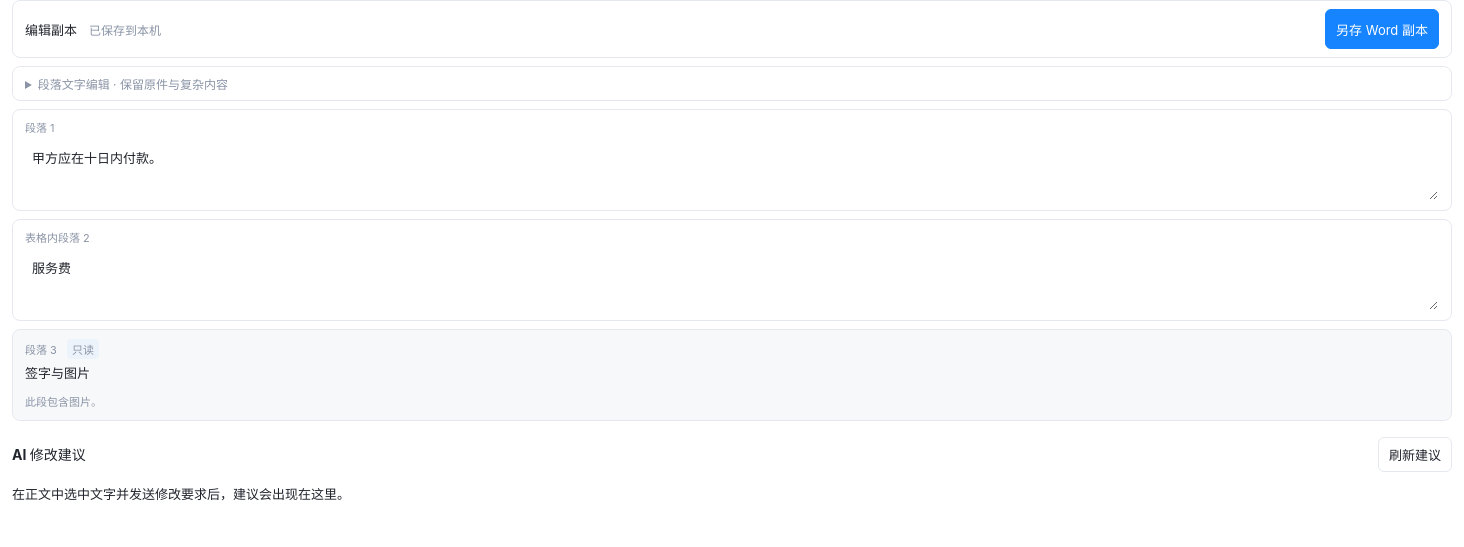
contract editor user workflow › exports the saved revision and reports cancelled save without losing the draft
Expected: the text box labelled "段落 1" is shown, x1=25 y1=139 x2=1439 y2=201
Click the button "另存 Word 副本" at (1382, 29), box x1=1325 y1=9 x2=1439 y2=49
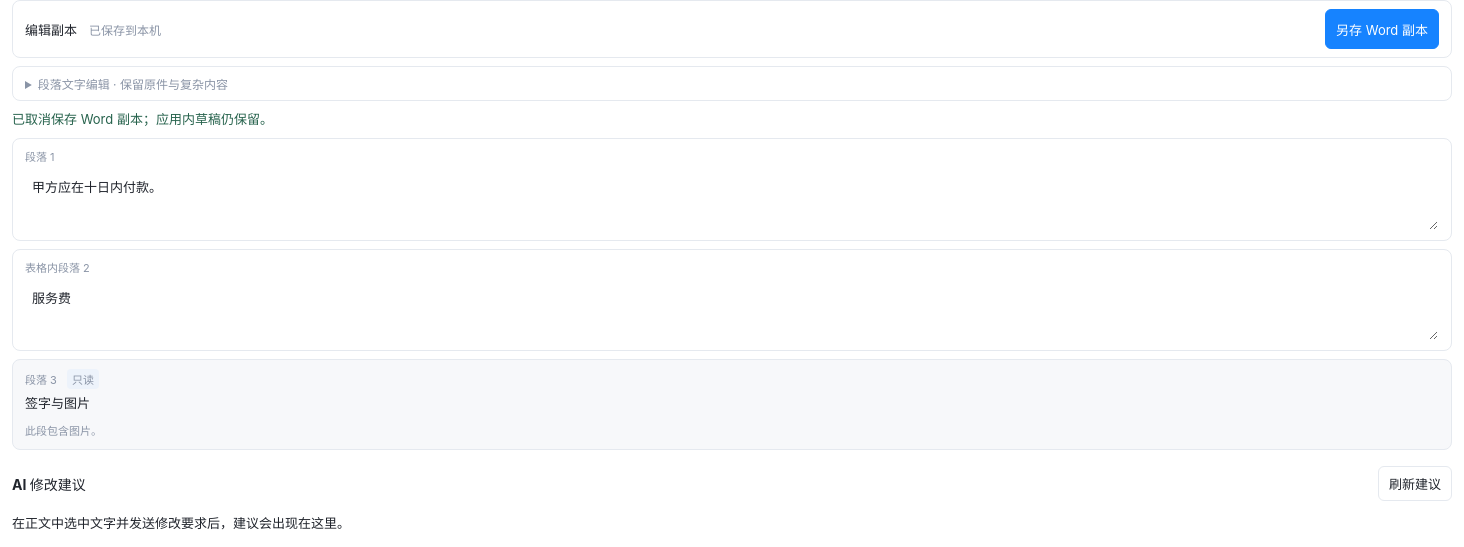
Expected: the text "已取消保存 Word 副本；应用内草稿仍保留。" is shown, x1=12 y1=111 x2=273 y2=127
